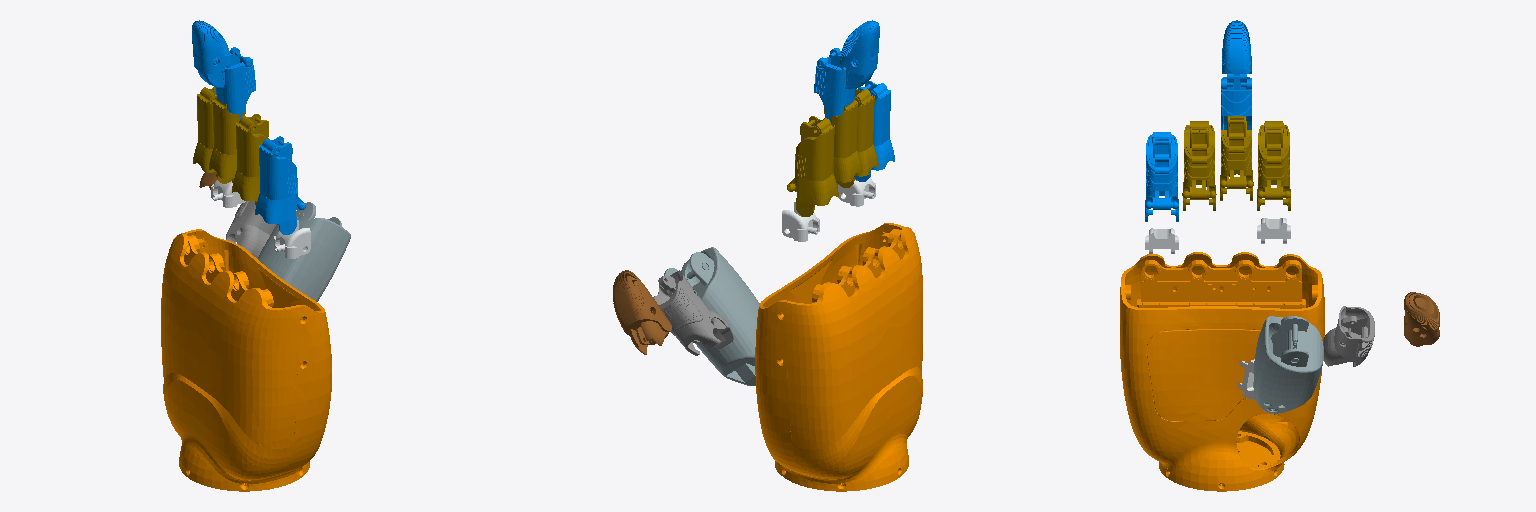
--- What the picture shows (computed from the rendered views, not written in the file) ---
3 views of the same robot in one strip: view 1: azimuth 30°, elevation 25°; view 2: azimuth 150°, elevation 25°; view 3: azimuth 270°, elevation 25° (orthographic).
Robot: linkerhand_l10_7_right.urdf — 21 links, 20 joints (20 revolute); root link hand_base_link; default pose: every joint at zero.
Links seen in each view (by area): view 1: hand_base_link, thumb_metacarpals, pinky_proximal, ring_proximal, middle_distal, middle_proximal, middle_middle, thumb_proximal, index_proximal, pinky_metacarpals, index_metacarpals; view 2: hand_base_link, thumb_metacarpals, thumb_proximal, index_proximal, thumb_distal, middle_distal, middle_proximal, middle_middle, pinky_proximal, ring_proximal, index_metacarpals, pinky_metacarpals; view 3: hand_base_link, thumb_metacarpals, index_proximal, pinky_proximal, ring_proximal, thumb_proximal, middle_proximal, thumb_distal, middle_distal, middle_middle, index_metacarpals, pinky_metacarpals.
Link boxes in pixels (x1=…): hand_base_link: x1=161, y1=229, x2=331, y2=491; thumb_metacarpals: x1=258, y1=202, x2=350, y2=301; pinky_proximal: x1=255, y1=136, x2=305, y2=234; ring_proximal: x1=232, y1=114, x2=269, y2=204; middle_distal: x1=192, y1=20, x2=230, y2=87; middle_proximal: x1=209, y1=98, x2=245, y2=182; middle_middle: x1=216, y1=47, x2=255, y2=118; thumb_proximal: x1=226, y1=201, x2=277, y2=258; index_proximal: x1=193, y1=87, x2=231, y2=183; pinky_metacarpals: x1=274, y1=220, x2=310, y2=258; index_metacarpals: x1=211, y1=180, x2=245, y2=207; hand_base_link: x1=755, y1=223, x2=922, y2=491; thumb_metacarpals: x1=664, y1=247, x2=759, y2=385; thumb_proximal: x1=653, y1=270, x2=733, y2=355; index_proximal: x1=787, y1=116, x2=838, y2=216; thumb_distal: x1=613, y1=270, x2=671, y2=354; middle_distal: x1=840, y1=20, x2=879, y2=89; middle_proximal: x1=823, y1=99, x2=862, y2=186; middle_middle: x1=814, y1=48, x2=854, y2=122; pinky_proximal: x1=855, y1=81, x2=894, y2=181; ring_proximal: x1=838, y1=89, x2=878, y2=187; index_metacarpals: x1=782, y1=202, x2=819, y2=241; pinky_metacarpals: x1=838, y1=177, x2=875, y2=206; hand_base_link: x1=1120, y1=252, x2=1324, y2=491; thumb_metacarpals: x1=1254, y1=316, x2=1323, y2=413; index_proximal: x1=1257, y1=121, x2=1290, y2=210; pinky_proximal: x1=1145, y1=132, x2=1178, y2=221; ring_proximal: x1=1182, y1=121, x2=1216, y2=210; thumb_proximal: x1=1323, y1=306, x2=1374, y2=366; middle_proximal: x1=1220, y1=116, x2=1253, y2=200; thumb_distal: x1=1404, y1=292, x2=1439, y2=346; middle_distal: x1=1222, y1=20, x2=1251, y2=89; middle_middle: x1=1221, y1=76, x2=1251, y2=129; index_metacarpals: x1=1257, y1=218, x2=1290, y2=243; pinky_metacarpals: x1=1145, y1=228, x2=1178, y2=253.
Size in the robot's own frame: 0.1067 by 0.1633 by 0.2394 metres.
14 mesh visuals loaded from 21 distinct referenced files (14 binary STL); not drawn: 7 (reference not matched to a file when rendering).

URDF robot description (linkerhand_l10_7_right.urdf):
<?xml version="1.0" encoding="utf-8"?>
<!-- This URDF was automatically created by SolidWorks to URDF Exporter! Originally created by Stephen Brawner ([email redacted]) 
     Commit Version: 1.6.0-4-g7f85cfe  Build Version: 1.6.7995.38578
     For more information, please see http://wiki.ros.org/sw_urdf_exporter -->
<robot
  name="linkerhand_l10_7_right.urdf">
  <link
    name="hand_base_link">
    <inertial>
      <origin
        xyz="-0.00378572993474923 -0.000415839048931058 0.0836392883613671"
        rpy="0 0 0" />
      <mass
        value="0.10884427610512" />
      <inertia
        ixx="0.00019345483956042"
        ixy="1.28842682703635E-06"
        ixz="1.97005632028112E-07"
        iyy="0.000129793182936336"
        iyz="-2.34961034039841E-06"
        izz="7.75126657491835E-05" />
    </inertial>
    <visual>
      <origin
        xyz="0 0 0"
        rpy="0 0 0" />
      <geometry>
        <mesh
          filename="meshes/hand_base_link.STL" />
      </geometry>
      <material
        name="">
        <color
          rgba="1 0.6 0 1" />
      </material>
    </visual>
    <collision>
      <origin
        xyz="0 0 0"
        rpy="0 0 0" />
      <geometry>
        <mesh
          filename="meshes/hand_base_link.STL" />
      </geometry>
    </collision>
  </link>
  <link
    name="thumb_metacarpals_base1">
    <inertial>
      <origin
        xyz="0.0284774593036823 -0.00319295610820959 0.000288698025133524"
        rpy="0 0 0" />
      <mass
        value="0.0084581719416891" />
      <inertia
        ixx="1.40261950876138E-06"
        ixy="1.18207329998214E-07"
        ixz="-1.77710409325651E-08"
        iyy="9.82563824235415E-07"
        iyz="-6.88503841796069E-08"
        izz="7.36195207923163E-07" />
    </inertial>
    <visual>
      <origin
        xyz="0 0 0"
        rpy="0 0 0" />
      <geometry>
        <mesh
          filename="meshes/thumb_metacarpals_base1.STL" />
      </geometry>
      <material
        name="">
        <color
          rgba="0 0 1 1" />
      </material>
    </visual>
    <collision>
      <origin
        xyz="0 0 0"
        rpy="0 0 0" />
      <geometry>
        <mesh
          filename="meshes/thumb_metacarpals_base1.STL" />
      </geometry>
    </collision>
  </link>
  <joint
    name="thumb_cmc_roll"
    type="revolute">
    <origin
      xyz="-0.013419 0.012551 0.060602"
      rpy="0 0 0" />
    <parent
      link="hand_base_link" />
    <child
      link="thumb_metacarpals_base1" />
    <axis
      xyz="0.99996 0 -0.0087265" />
    <limit
      lower="0"
      upper="1.1339"
      effort="100"
      velocity="1" />
  </joint>
  <link
    name="thumb_metacarpals_base2">
    <inertial>
      <origin
        xyz="0.00215248483593253 0.00687960824638228 -0.00178648738539141"
        rpy="0 0 0" />
      <mass
        value="0.00582710536801184" />
      <inertia
        ixx="3.1580508435925E-07"
        ixy="-1.2523312776122E-08"
        ixz="7.34627751822501E-09"
        iyy="2.74551538715439E-07"
        iyz="-1.11420623852877E-08"
        izz="1.7708647486189E-07" />
    </inertial>
    <visual>
      <origin
        xyz="0 0 0"
        rpy="0 0 0" />
      <geometry>
        <mesh
          filename="meshes/thumb_metacarpals_base2.STL" />
      </geometry>
      <material
        name="">
        <color
          rgba="0.898039215686275 0.917647058823529 0.929411764705882 1" />
      </material>
    </visual>
    <collision>
      <origin
        xyz="0 0 0"
        rpy="0 0 0" />
      <geometry>
        <mesh
          filename="meshes/thumb_metacarpals_base2.STL" />
      </geometry>
    </collision>
  </link>
  <joint
    name="thumb_cmc_yaw"
    type="revolute">
    <origin
      xyz="0.035797 -0.00065879 0.00045944"
      rpy="0 0 0" />
    <parent
      link="thumb_metacarpals_base1" />
    <child
      link="thumb_metacarpals_base2" />
    <axis
      xyz="0.008517 -0.21782 -0.97595" />
    <limit
      lower="0"
      upper="1.9189"
      effort="100"
      velocity="0" />
  </joint>
  <link
    name="thumb_metacarpals">
    <inertial>
      <origin
        xyz="0.00183661834550107 -2.80742940476572E-06 0.0269905020099197"
        rpy="0 0 0" />
      <mass
        value="0.0152011697874328" />
      <inertia
        ixx="2.95370119498705E-06"
        ixy="5.98576599418973E-11"
        ixz="1.58078022444628E-07"
        iyy="3.84770651487058E-06"
        iyz="4.18316149481869E-10"
        izz="1.32007495243356E-06" />
    </inertial>
    <visual>
      <origin
        xyz="0 0 0"
        rpy="0 0 0" />
      <geometry>
        <mesh
          filename="meshes/thumb_metacarpals.STL" />
      </geometry>
      <material
        name="">
        <color
          rgba="0.592156862745098 0.666666666666667 0.682352941176471 1" />
      </material>
    </visual>
    <collision>
      <origin
        xyz="0 0 0"
        rpy="0 0 0" />
      <geometry>
        <mesh
          filename="meshes/thumb_metacarpals.STL" />
      </geometry>
    </collision>
  </link>
  <joint
    name="thumb_cmc_pitch"
    type="revolute">
    <origin
      xyz="0.0046051 0.014383 -0.0051478"
      rpy="0.16356 -1.1191 -2.0038" />
    <parent
      link="thumb_metacarpals_base2" />
    <child
      link="thumb_metacarpals" />
    <axis
      xyz="0 1 0" />
    <limit
      lower="0"
      upper="0.5146"
      effort="100"
      velocity="1" />
  </joint>
  <link
    name="thumb_proximal">
    <inertial>
      <origin
        xyz="0.00159270226880857 -4.4335770623613E-06 0.0151573535592338"
        rpy="0 0 0" />
      <mass
        value="0.00662230120907192" />
      <inertia
        ixx="1.01526965693255E-06"
        ixy="-3.40889077339227E-12"
        ixz="4.4224333375416E-08"
        iyy="9.10433196570128E-07"
        iyz="2.59867251981586E-11"
        izz="4.4746314468008E-07" />
    </inertial>
    <visual>
      <origin
        xyz="0 0 0"
        rpy="0 0 0" />
      <geometry>
        <mesh
          filename="meshes/thumb_proximal.STL" />
      </geometry>
      <material
        name="">
        <color
          rgba="0.6 0.6 0.6 1" />
      </material>
    </visual>
    <collision>
      <origin
        xyz="0 0 0"
        rpy="0 0 0" />
      <geometry>
        <mesh
          filename="meshes/thumb_proximal.STL" />
      </geometry>
    </collision>
  </link>
  <joint
    name="thumb_mcp"
    type="revolute">
    <origin
      xyz="0.0061722 0 0.047968"
      rpy="0 0 0" />
    <parent
      link="thumb_metacarpals" />
    <child
      link="thumb_proximal" />
    <axis
      xyz="0 1 0" />
    <limit
      lower="0"
      upper="0.7152"
      effort="100"
      velocity="1" />
    <mimic
      joint="thumb_cmc_pitch"
      multiplier="1.3898"
      offset="0" />
  </joint>
  <link
    name="thumb_distal">
    <inertial>
      <origin
        xyz="-0.00138919652929166 1.66654390589688E-06 0.0115790399688877"
        rpy="0 0 0" />
      <mass
        value="0.00512933613321634" />
      <inertia
        ixx="3.30969722600772E-07"
        ixy="-3.44780214263253E-10"
        ixz="1.04733139974397E-07"
        iyy="3.23809589950991E-07"
        iyz="-8.21573772773073E-11"
        izz="2.489052525811E-07" />
    </inertial>
    <visual>
      <origin
        xyz="0 0 0"
        rpy="0 0 0" />
      <geometry>
        <mesh
          filename="meshes/thumb_distal.STL" />
      </geometry>
      <material
        name="">
        <color
          rgba="0.6 0.4 0.2 1" />
      </material>
    </visual>
    <collision>
      <origin
        xyz="0 0 0"
        rpy="0 0 0" />
      <geometry>
        <mesh
          filename="meshes/thumb_distal.STL" />
      </geometry>
    </collision>
  </link>
  <joint
    name="thumb_ip"
    type="revolute">
    <origin
      xyz="-0.00017064 0 0.038665"
      rpy="0 0 0" />
    <parent
      link="thumb_proximal" />
    <child
      link="thumb_distal" />
    <axis
      xyz="0 1 0" />
    <limit
      lower="0"
      upper="0.7763"
      effort="100"
      velocity="1" />
    <mimic
      joint="thumb_cmc_pitch"
      multiplier="1.508"
      offset="0" />
  </joint>
  <link
    name="index_metacarpals">
    <inertial>
      <origin
        xyz="-0.000473392019250098 -6.96702861594997E-07 0.00909067743061448"
        rpy="0 0 0" />
      <mass
        value="0.00903700347459462" />
      <inertia
        ixx="4.90035722472611E-07"
        ixy="3.89143802263231E-11"
        ixz="-2.78580197566548E-08"
        iyy="7.37380420538667E-07"
        iyz="6.37050140815271E-11"
        izz="5.52381285093451E-07" />
    </inertial>
    <visual>
      <origin
        xyz="0 0 0"
        rpy="0 0 0" />
      <geometry>
        <mesh
          filename="meshes/index_metacarpals.STL" />
      </geometry>
      <material
        name="">
        <color
          rgba="0.898039215686275 0.917647058823529 0.929411764705882 1" />
      </material>
    </visual>
    <collision>
      <origin
        xyz="0 0 0"
        rpy="0 0 0" />
      <geometry>
        <mesh
          filename="meshes/index_metacarpals.STL" />
      </geometry>
    </collision>
  </link>
  <joint
    name="index_mcp_roll"
    type="revolute">
    <origin
      xyz="-0.0021643 0.026654 0.13253"
      rpy="0 0 0" />
    <parent
      link="hand_base_link" />
    <child
      link="index_metacarpals" />
    <axis
      xyz="0.99996 0 0.0087265" />
    <limit
      lower="-0.2181"
      upper="0"
      effort="100"
      velocity="1" />
  </joint>
  <link
    name="index_proximal">
    <inertial>
      <origin
        xyz="-0.000221409784741484 1.17214413283134E-06 0.0104801609243648"
        rpy="0 0 0" />
      <mass
        value="0.00654982479821771" />
      <inertia
        ixx="4.43447817415824E-07"
        ixy="-2.69774925527114E-12"
        ixz="2.71645765576885E-08"
        iyy="4.58697755319572E-07"
        iyz="-8.52649515921746E-11"
        izz="1.7465947341041E-07" />
    </inertial>
    <visual>
      <origin
        xyz="0 0 0"
        rpy="0 0 0" />
      <geometry>
        <mesh
          filename="meshes/index_proximal.STL" />
      </geometry>
      <material
        name="">
        <color
          rgba="0.647058823529412 0.517647058823529 0 1" />
      </material>
    </visual>
    <collision>
      <origin
        xyz="0 0 0"
        rpy="0 0 0" />
      <geometry>
        <mesh
          filename="meshes/index_proximal.STL" />
      </geometry>
    </collision>
  </link>
  <joint
    name="index_mcp_pitch"
    type="revolute">
    <origin
      xyz="0.0020763 0 0.015294"
      rpy="0 0 0" />
    <parent
      link="index_metacarpals" />
    <child
      link="index_proximal" />
    <axis
      xyz="0 1 0" />
    <limit
      lower="0"
      upper="1.3607"
      effort="100"
      velocity="1" />
  </joint>
  <link
    name="index_middle">
    <inertial>
      <origin
        xyz="-0.00259932519148708 -2.09526073980532E-06 0.0110174765184068"
        rpy="0 0 0" />
      <mass
        value="0.00283043635595588" />
      <inertia
        ixx="2.60328472325947E-07"
        ixy="5.7907596345584E-11"
        ixz="4.11787064047029E-08"
        iyy="2.33077669786127E-07"
        iyz="-2.91977981203693E-11"
        izz="1.27252395425434E-07" />
    </inertial>
    <visual>
      <origin
        xyz="0 0 0"
        rpy="0 0 0" />
      <geometry>
        <mesh
          filename="meshes/index_middle.STL" />
      </geometry>
      <material
        name="">
        <color
          rgba="0 0.6 1 1" />
      </material>
    </visual>
    <collision>
      <origin
        xyz="0 0 0"
        rpy="0 0 0" />
      <geometry>
        <mesh
          filename="meshes/index_middle.STL" />
      </geometry>
    </collision>
  </link>
  <joint
    name="index_pip"
    type="revolute">
    <origin
      xyz="-0.0013807 0 0.035624"
      rpy="0 0 0" />
    <parent
      link="index_proximal" />
    <child
      link="index_middle" />
    <axis
      xyz="0 1 0" />
    <limit
      lower="0"
      upper="1.8317"
      effort="100"
      velocity="1" />
    <mimic
      joint="index_mcp_pitch"
      multiplier="1.3462"
      offset="0" />
  </joint>
  <link
    name="index_distal">
    <inertial>
      <origin
        xyz="-0.000710605319534495 5.23484329792434E-06 0.0121456668819466"
        rpy="0 0 0" />
      <mass
        value="0.00314458657125681" />
      <inertia
        ixx="1.63322109883219E-07"
        ixy="1.96094345230889E-11"
        ixz="4.33517104700554E-08"
        iyy="1.48366110942312E-07"
        iyz="-2.0277830463002E-10"
        izz="9.85575309385827E-08" />
    </inertial>
    <visual>
      <origin
        xyz="0 0 0"
        rpy="0 0 0" />
      <geometry>
        <mesh
          filename="meshes/index_distal.STL" />
      </geometry>
      <material
        name="">
        <color
          rgba="0 0.6 1 1" />
      </material>
    </visual>
    <collision>
      <origin
        xyz="0 0 0"
        rpy="0 0 0" />
      <geometry>
        <mesh
          filename="meshes/index_distal.STL" />
      </geometry>
    </collision>
  </link>
  <joint
    name="index_dip"
    type="revolute">
    <origin
      xyz="-0.0054686 0 0.025665"
      rpy="0 0 0" />
    <parent
      link="index_middle" />
    <child
      link="index_distal" />
    <axis
      xyz="0 1 0" />
    <limit
      lower="0"
      upper="1.8317"
      effort="100"
      velocity="1" />
    <mimic
      joint="index_mcp_pitch"
      multiplier="0.4616"
      offset="0" />
  </joint>
  <link
    name="middle_proximal">
    <inertial>
      <origin
        xyz="-0.000226219980586555 1.17216483217115E-06 0.0104800581470382"
        rpy="0 0 0" />
      <mass
        value="0.00654982478226948" />
      <inertia
        ixx="4.43422823045881E-07"
        ixy="-2.65801609336249E-12"
        ixz="2.72879331079687E-08"
        iyy="4.58697754707372E-07"
        iyz="-8.52654749041276E-11"
        izz="1.746844667607E-07" />
    </inertial>
    <visual>
      <origin
        xyz="0 0 0"
        rpy="0 0 0" />
      <geometry>
        <mesh
          filename="meshes/middle_proximal.STL" />
      </geometry>
      <material
        name="">
        <color
          rgba="0.647058823529412 0.517647058823529 0 1" />
      </material>
    </visual>
    <collision>
      <origin
        xyz="0 0 0"
        rpy="0 0 0" />
      <geometry>
        <mesh
          filename="meshes/middle_proximal.STL" />
      </geometry>
    </collision>
  </link>
  <joint
    name="middle_mcp_pitch"
    type="revolute">
    <origin
      xyz="-0.0021316 0.0076542 0.15281"
      rpy="0 0 0" />
    <parent
      link="hand_base_link" />
    <child
      link="middle_proximal" />
    <axis
      xyz="0 1 0" />
    <limit
      lower="0"
      upper="1.3607"
      effort="100"
      velocity="1" />
  </joint>
  <link
    name="middle_middle">
    <inertial>
      <origin
        xyz="-0.00261699473119732 -2.09526685195343E-06 0.0110132928110042"
        rpy="0 0 0" />
      <mass
        value="0.00283043635504843" />
      <inertia
        ixx="2.60196021834948E-07"
        ixy="5.79547865424082E-11"
        ixz="4.1391958359388E-08"
        iyy="2.33077669434872E-07"
        iyz="-2.91048412607941E-11"
        izz="1.27384845266404E-07" />
    </inertial>
    <visual>
      <origin
        xyz="0 0 0"
        rpy="0 0 0" />
      <geometry>
        <mesh
          filename="meshes/middle_middle.STL" />
      </geometry>
      <material
        name="">
        <color
          rgba="0 0.6 1 1" />
      </material>
    </visual>
    <collision>
      <origin
        xyz="0 0 0"
        rpy="0 0 0" />
      <geometry>
        <mesh
          filename="meshes/middle_middle.STL" />
      </geometry>
    </collision>
  </link>
  <joint
    name="middle_pip"
    type="revolute">
    <origin
      xyz="-0.001397 0 0.035623"
      rpy="0 0 0" />
    <parent
      link="middle_proximal" />
    <child
      link="middle_middle" />
    <axis
      xyz="0 1 0" />
    <limit
      lower="0"
      upper="1.8317"
      effort="100"
      velocity="1" />
    <mimic
      joint="middle_mcp_pitch"
      multiplier="1.3462"
      offset="0" />
  </joint>
  <link
    name="middle_distal">
    <inertial>
      <origin
        xyz="-0.000728492686368068 5.23463091207845E-06 0.0121446078355904"
        rpy="0 0 0" />
      <mass
        value="0.0031445865911477" />
      <inertia
        ixx="1.6319430020531E-07"
        ixy="1.99064061423831E-11"
        ixz="4.34469141575623E-08"
        iyy="1.48366133401933E-07"
        iyz="-2.0274172110168E-10"
        izz="9.86853634492536E-08" />
    </inertial>
    <visual>
      <origin
        xyz="0 0 0"
        rpy="0 0 0" />
      <geometry>
        <mesh
          filename="meshes/middle_distal.STL" />
      </geometry>
      <material
        name="">
        <color
          rgba="0 0.6 1 1" />
      </material>
    </visual>
    <collision>
      <origin
        xyz="0 0 0"
        rpy="0 0 0" />
      <geometry>
        <mesh
          filename="meshes/middle_distal.STL" />
      </geometry>
    </collision>
  </link>
  <joint
    name="middle_dip"
    type="revolute">
    <origin
      xyz="-0.0055098 0 0.025656"
      rpy="0 0 0" />
    <parent
      link="middle_middle" />
    <child
      link="middle_distal" />
    <axis
      xyz="0 1 0" />
    <limit
      lower="0"
      upper="0.628"
      effort="100"
      velocity="1" />
    <mimic
      joint="middle_mcp_pitch"
      multiplier="0.4616"
      offset="0" />
  </joint>
  <link
    name="ring_metacarpals">
    <inertial>
      <origin
        xyz="-0.000473392019250147 -6.96702861586324E-07 0.00909067743061451"
        rpy="0 0 0" />
      <mass
        value="0.00903700347459463" />
      <inertia
        ixx="4.90035722472612E-07"
        ixy="3.89143802227228E-11"
        ixz="-2.78580197566549E-08"
        iyy="7.37380420538669E-07"
        iyz="6.37050140810733E-11"
        izz="5.52381285093452E-07" />
    </inertial>
    <visual>
      <origin
        xyz="0 0 0"
        rpy="0 0 0" />
      <geometry>
        <mesh
          filename="meshes/ring_metacarpals.STL" />
      </geometry>
      <material
        name="">
        <color
          rgba="0.898039215686275 0.917647058823529 0.929411764705882 1" />
      </material>
    </visual>
    <collision>
      <origin
        xyz="0 0 0"
        rpy="0 0 0" />
      <geometry>
        <mesh
          filename="meshes/ring_metacarpals.STL" />
      </geometry>
    </collision>
  </link>
  <joint
    name="ring_mcp_roll"
    type="revolute">
    <origin
      xyz="-0.0021643 -0.011346 0.13253"
      rpy="0 0 0" />
    <parent
      link="hand_base_link" />
    <child
      link="ring_metacarpals" />
    <axis
      xyz="0.99996 0 0.0087265" />
    <limit
      lower="0"
      upper="0.2181"
      effort="100"
      velocity="1" />
  </joint>
  <link
    name="ring_proximal">
    <inertial>
      <origin
        xyz="-0.000221412177759527 1.17116513872681E-06 0.0104801549347171"
        rpy="0 0 0" />
      <mass
        value="0.00654982867950541" />
      <inertia
        ixx="4.43447863010516E-07"
        ixy="-2.73227024213763E-12"
        ixz="2.71645164102371E-08"
        iyy="4.58697895506594E-07"
        iyz="-8.52846225435011E-11"
        izz="1.74659590566364E-07" />
    </inertial>
    <visual>
      <origin
        xyz="0 0 0"
        rpy="0 0 0" />
      <geometry>
        <mesh
          filename="meshes/ring_proximal.STL" />
      </geometry>
      <material
        name="">
        <color
          rgba="0.647058823529412 0.517647058823529 0 1" />
      </material>
    </visual>
    <collision>
      <origin
        xyz="0 0 0"
        rpy="0 0 0" />
      <geometry>
        <mesh
          filename="meshes/ring_proximal.STL" />
      </geometry>
    </collision>
  </link>
  <joint
    name="ring_mcp_pitch"
    type="revolute">
    <origin
      xyz="0.0020763 0 0.015294"
      rpy="0 0 0" />
    <parent
      link="ring_metacarpals" />
    <child
      link="ring_proximal" />
    <axis
      xyz="0 1 0" />
    <limit
      lower="0"
      upper="1.3607"
      effort="100"
      velocity="1" />
  </joint>
  <link
    name="ring_middle">
    <inertial>
      <origin
        xyz="-0.00259932539169275 -2.09536925854445E-06 0.0110174765352322"
        rpy="0 0 0" />
      <mass
        value="0.00283043628669241" />
      <inertia
        ixx="2.6032847037415E-07"
        ixy="5.79104972037516E-11"
        ixz="4.11787063652271E-08"
        iyy="2.33077663802866E-07"
        iyz="-2.91978956610415E-11"
        izz="1.27252388488073E-07" />
    </inertial>
    <visual>
      <origin
        xyz="0 0 0"
        rpy="0 0 0" />
      <geometry>
        <mesh
          filename="meshes/ring_middle.STL" />
      </geometry>
      <material
        name="">
        <color
          rgba="0 0.6 1 1" />
      </material>
    </visual>
    <collision>
      <origin
        xyz="0 0 0"
        rpy="0 0 0" />
      <geometry>
        <mesh
          filename="meshes/ring_middle.STL" />
      </geometry>
    </collision>
  </link>
  <joint
    name="ring_pip"
    type="revolute">
    <origin
      xyz="-0.0013807 0 0.035624"
      rpy="0 0 0" />
    <parent
      link="ring_proximal" />
    <child
      link="ring_middle" />
    <axis
      xyz="0 1 0" />
    <limit
      lower="0"
      upper="1.8317"
      effort="100"
      velocity="1" />
    <mimic
      joint="ring_mcp_pitch"
      multiplier="1.3462"
      offset="0" />
  </joint>
  <link
    name="ring_distal">
    <inertial>
      <origin
        xyz="-0.000710605070655887 5.23486441320054E-06 0.0121456664241844"
        rpy="0 0 0" />
      <mass
        value="0.0031445863941225" />
      <inertia
        ixx="1.6332208655443E-07"
        ixy="1.96096284326007E-11"
        ixz="4.33517042915493E-08"
        iyy="1.48366090032445E-07"
        iyz="-2.02778843611257E-10"
        izz="9.85575241184011E-08" />
    </inertial>
    <visual>
      <origin
        xyz="0 0 0"
        rpy="0 0 0" />
      <geometry>
        <mesh
          filename="meshes/ring_distal.STL" />
      </geometry>
      <material
        name="">
        <color
          rgba="0 0.6 1 1" />
      </material>
    </visual>
    <collision>
      <origin
        xyz="0 0 0"
        rpy="0 0 0" />
      <geometry>
        <mesh
          filename="meshes/ring_distal.STL" />
      </geometry>
    </collision>
  </link>
  <joint
    name="ring_dip"
    type="revolute">
    <origin
      xyz="-0.0054686 0 0.025665"
      rpy="0 0 0" />
    <parent
      link="ring_middle" />
    <child
      link="ring_distal" />
    <axis
      xyz="0 1 0" />
    <limit
      lower="0"
      upper="0.628"
      effort="100"
      velocity="1" />
    <mimic
      joint="ring_mcp_pitch"
      multiplier="0.4616"
      offset="0" />
  </joint>
  <link
    name="pinky_metacarpals">
    <inertial>
      <origin
        xyz="-0.000473392019250103 -6.96702861589793E-07 0.00909067743061448"
        rpy="0 0 0" />
      <mass
        value="0.00903700347459465" />
      <inertia
        ixx="4.90035722472611E-07"
        ixy="3.89143802264643E-11"
        ixz="-2.78580197566552E-08"
        iyy="7.37380420538668E-07"
        iyz="6.37050140815369E-11"
        izz="5.52381285093452E-07" />
    </inertial>
    <visual>
      <origin
        xyz="0 0 0"
        rpy="0 0 0" />
      <geometry>
        <mesh
          filename="meshes/pinky_metacarpals.STL" />
      </geometry>
      <material
        name="">
        <color
          rgba="0.898039215686275 0.917647058823529 0.929411764705882 1" />
      </material>
    </visual>
    <collision>
      <origin
        xyz="0 0 0"
        rpy="0 0 0" />
      <geometry>
        <mesh
          filename="meshes/pinky_metacarpals.STL" />
      </geometry>
    </collision>
  </link>
  <joint
    name="pinky_mcp_roll"
    type="revolute">
    <origin
      xyz="-0.00012074 -0.030346 0.12755"
      rpy="0 0 0" />
    <parent
      link="hand_base_link" />
    <child
      link="pinky_metacarpals" />
    <axis
      xyz="0.99996 0 0.0087265" />
    <limit
      lower="0"
      upper="0.3489"
      effort="100"
      velocity="1" />
  </joint>
  <link
    name="pinky_proximal">
    <inertial>
      <origin
        xyz="-0.000221412258607754 1.17103683876935E-06 0.0104801532987067"
        rpy="0 0 0" />
      <mass
        value="0.00654982918810593" />
      <inertia
        ixx="4.43447910769094E-07"
        ixy="-2.73411126621624E-12"
        ixz="2.71644852567342E-08"
        iyy="4.58697939807031E-07"
        iyz="-8.52970212446317E-11"
        izz="1.74659590066949E-07" />
    </inertial>
    <visual>
      <origin
        xyz="0 0 0"
        rpy="0 0 0" />
      <geometry>
        <mesh
          filename="meshes/pinky_proximal.STL" />
      </geometry>
      <material
        name="">
        <color
          rgba="0 0.6 1 1" />
      </material>
    </visual>
    <collision>
      <origin
        xyz="0 0 0"
        rpy="0 0 0" />
      <geometry>
        <mesh
          filename="meshes/pinky_proximal.STL" />
      </geometry>
    </collision>
  </link>
  <joint
    name="pinky_mcp_pitch"
    type="revolute">
    <origin
      xyz="0.0020763 0 0.015294"
      rpy="0 0 0" />
    <parent
      link="pinky_metacarpals" />
    <child
      link="pinky_proximal" />
    <axis
      xyz="0 1 0" />
    <limit
      lower="0"
      upper="1.3607"
      effort="100"
      velocity="1" />
  </joint>
  <link
    name="pinky_middle">
    <inertial>
      <origin
        xyz="-0.002599325191487 -2.09526073984695E-06 0.0110174765184069"
        rpy="0 0 0" />
      <mass
        value="0.00283043635595589" />
      <inertia
        ixx="2.60328472325978E-07"
        ixy="5.7907596343404E-11"
        ixz="4.11787064048009E-08"
        iyy="2.33077669786026E-07"
        iyz="-2.91977981214484E-11"
        izz="1.27252395425297E-07" />
    </inertial>
    <visual>
      <origin
        xyz="0 0 0"
        rpy="0 0 0" />
      <geometry>
        <mesh
          filename="meshes/pinky_middle.STL" />
      </geometry>
      <material
        name="">
        <color
          rgba="0 0.6 1 1" />
      </material>
    </visual>
    <collision>
      <origin
        xyz="0 0 0"
        rpy="0 0 0" />
      <geometry>
        <mesh
          filename="meshes/pinky_middle.STL" />
      </geometry>
    </collision>
  </link>
  <joint
    name="pinky_pip"
    type="revolute">
    <origin
      xyz="-0.0013807 0 0.035624"
      rpy="0 0 0" />
    <parent
      link="pinky_proximal" />
    <child
      link="pinky_middle" />
    <axis
      xyz="0 1 0" />
    <limit
      lower="0"
      upper="1.8317"
      effort="100"
      velocity="1" />
    <mimic
      joint="pinky_mcp_pitch"
      multiplier="1.3462"
      offset="0" />
  </joint>
  <link
    name="pinky_distal">
    <inertial>
      <origin
        xyz="-0.000710605211329151 5.23471293070038E-06 0.0121456666744262"
        rpy="0 0 0" />
      <mass
        value="0.0031445864920905" />
      <inertia
        ixx="1.63322099233008E-07"
        ixy="1.96074242691561E-11"
        ixz="4.33517077122639E-08"
        iyy="1.48366101127732E-07"
        iyz="-2.02773897050006E-10"
        izz="9.85575276143507E-08" />
    </inertial>
    <visual>
      <origin
        xyz="0 0 0"
        rpy="0 0 0" />
      <geometry>
        <mesh
          filename="meshes/pinky_distal.STL" />
      </geometry>
      <material
        name="">
        <color
          rgba="0 0.6 1 1" />
      </material>
    </visual>
    <collision>
      <origin
        xyz="0 0 0"
        rpy="0 0 0" />
      <geometry>
        <mesh
          filename="meshes/pinky_distal.STL" />
      </geometry>
    </collision>
  </link>
  <joint
    name="pinky_dip"
    type="revolute">
    <origin
      xyz="-0.0054686 0 0.025665"
      rpy="0 0 0" />
    <parent
      link="pinky_middle" />
    <child
      link="pinky_distal" />
    <axis
      xyz="0 1 0" />
    <limit
      lower="0"
      upper="0.628"
      effort="100"
      velocity="1" />
    <mimic
      joint="pinky_mcp_pitch"
      multiplier="0.4616"
      offset="0" />
  </joint>
</robot>
